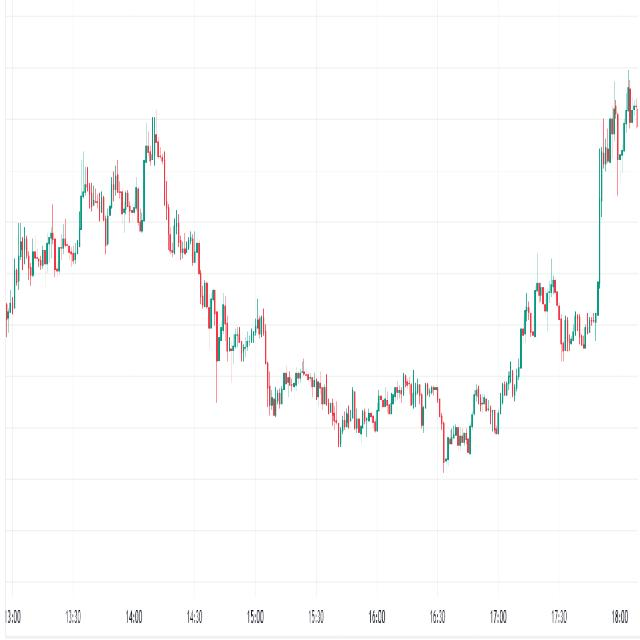Rounding-Bottom: (158, 174, 606, 484)
